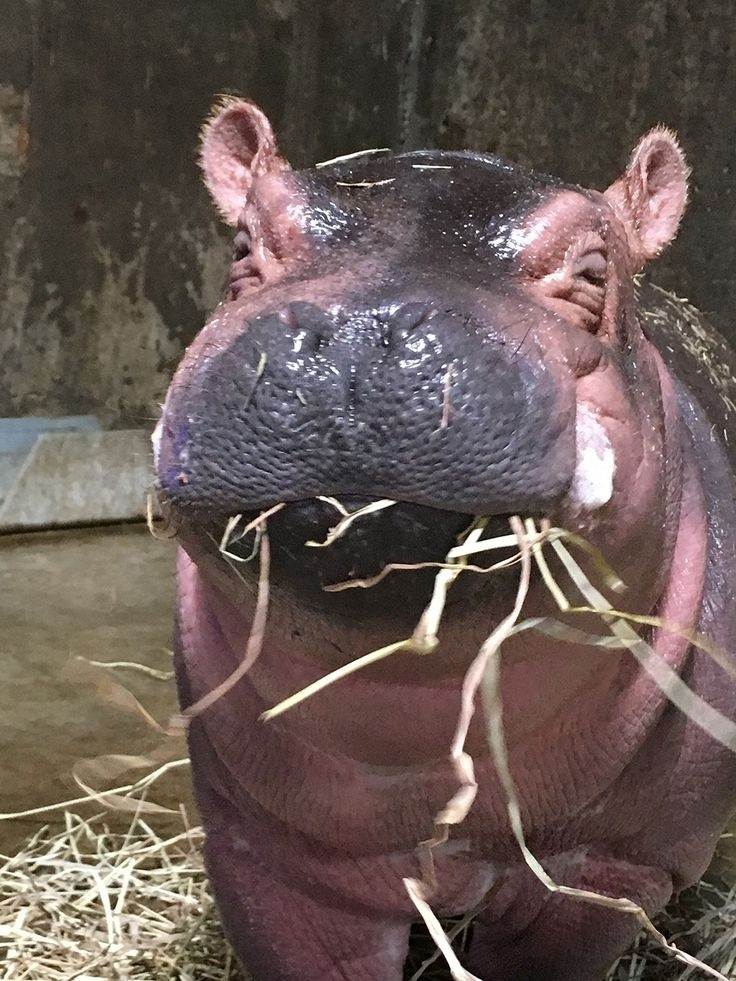hipopotamo: (83, 56, 729, 981)
